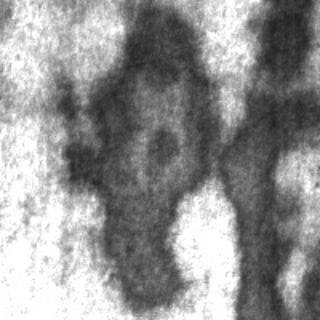patches: (60, 3, 216, 308), (218, 74, 316, 316), (247, 0, 315, 88)
